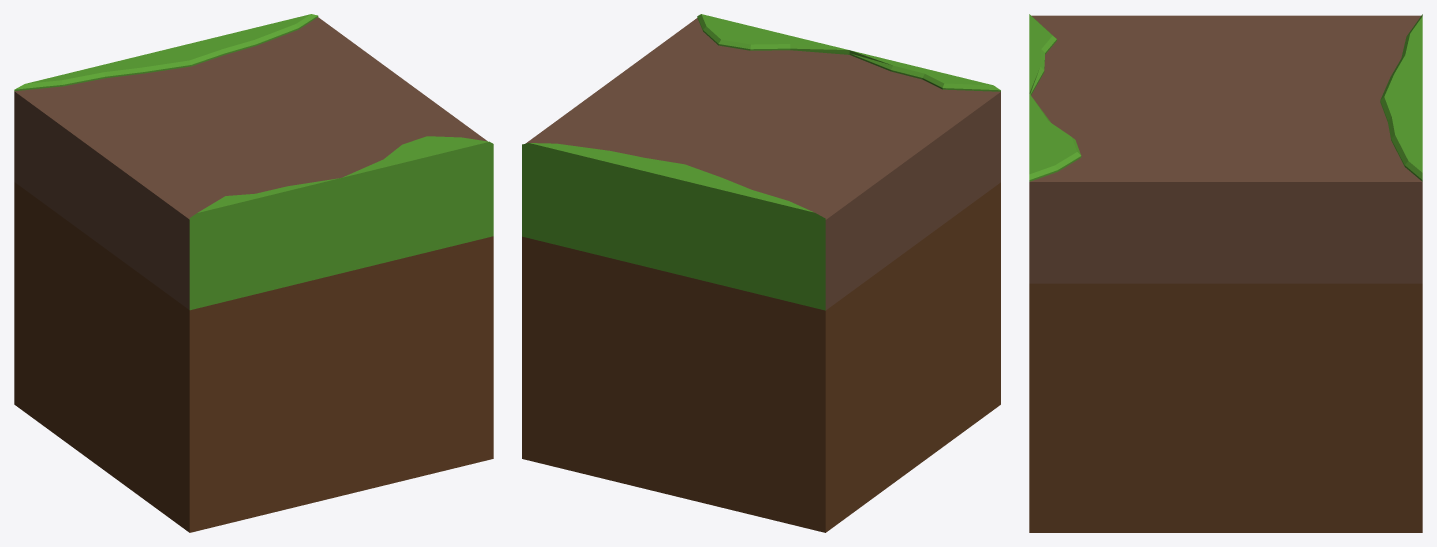
Rendered from Ground-Grass 4.fbx.
3 renders of one model, left to right at view 1: azimuth 30°, elevation 25°; view 2: azimuth 150°, elevation 25°; view 3: azimuth 270°, elevation 25°, orthographic. The views are drawn at different scales.
Visible parts, largest first — view 1: Grass/Ground bridge 1; view 2: Grass/Ground bridge 1; view 3: Grass/Ground bridge 1.
Boxes of the visible parts, x1,y1,x2,y2 form: Grass/Ground bridge 1: (14, 14, 493, 532); Grass/Ground bridge 1: (522, 14, 1000, 532); Grass/Ground bridge 1: (1029, 14, 1422, 532).
Size of the model in its own units: 2 by 2 by 2.
